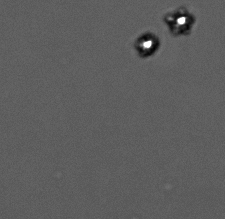Living Cell: (166, 8, 194, 34), (135, 31, 160, 57)
